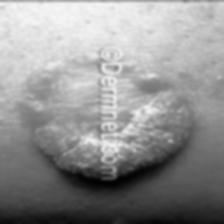Toxin: (20, 52, 196, 178)
